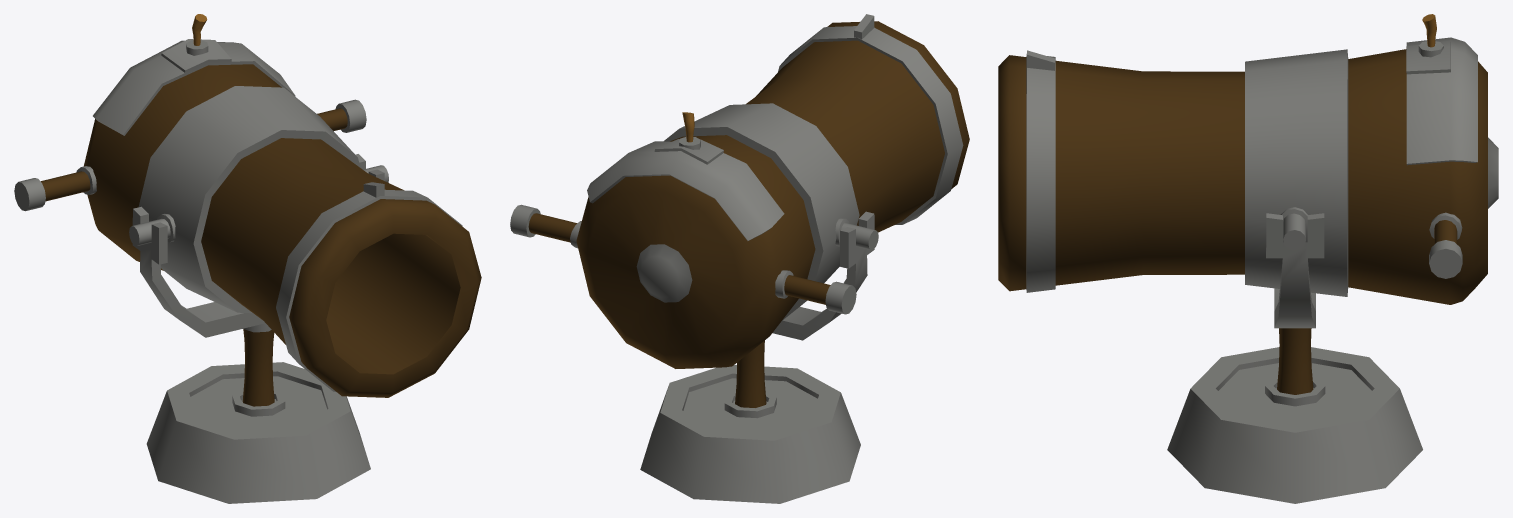
Rendered from Cannon.fbx.
3 renders of one model, left to right at view 1: azimuth 30°, elevation 25°; view 2: azimuth 150°, elevation 25°; view 3: azimuth 270°, elevation 25°, orthographic. The views are drawn at different scales.
Visible parts, largest first — view 1: Cube, Cube.001, Cube.002, Cube.004, Cube.003; view 2: Cube, Cube.001, Cube.002, Cube.004, Cube.003; view 3: Cube, Cube.001, Cube.002, Cube.003.
Boxes of the visible parts, x1,y1,x2,y2 form: Cube: [84, 14, 481, 397]; Cube.001: [146, 323, 370, 503]; Cube.002: [132, 154, 384, 337]; Cube.004: [14, 166, 96, 211]; Cube.003: [317, 99, 366, 132]; Cube: [576, 14, 969, 368]; Cube.001: [640, 340, 860, 503]; Cube.002: [772, 211, 874, 340]; Cube.004: [775, 270, 856, 314]; Cube.003: [510, 204, 581, 248]; Cube: [998, 14, 1498, 304]; Cube.001: [1167, 328, 1422, 503]; Cube.002: [1266, 213, 1324, 328]; Cube.003: [1429, 212, 1462, 278].
Bounding box in the file's own units: 152 × 171 × 177.
